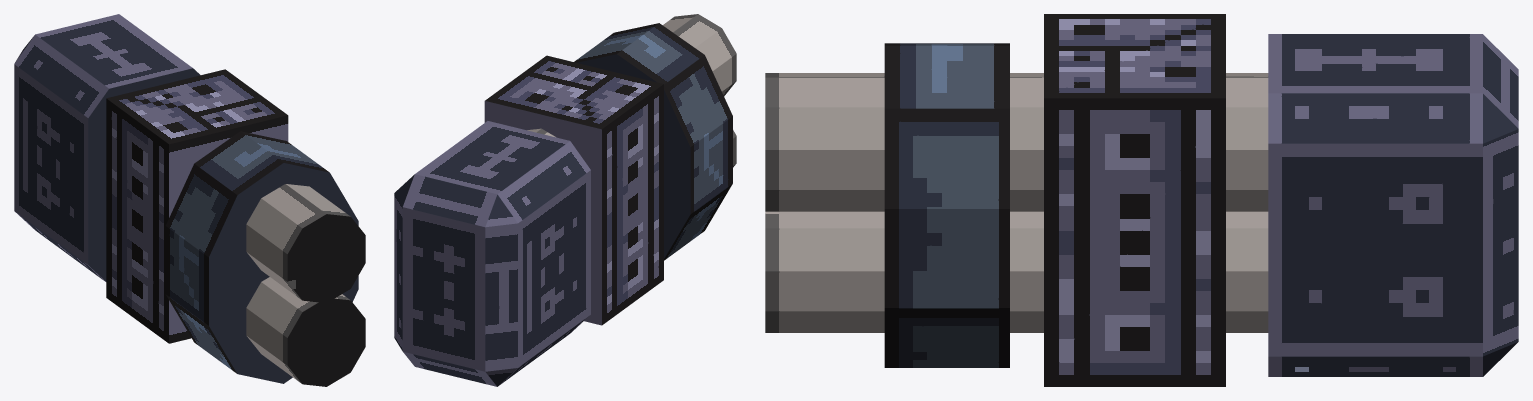
The model's file is ArmRocket.gltf.
3 renders of one model, left to right at view 1: azimuth 30°, elevation 25°; view 2: azimuth 150°, elevation 25°; view 3: azimuth 270°, elevation 25°, orthographic. The views are drawn at different scales.
Visible parts, largest first — view 1: ArmRocketLauncher, cuboid, cylinder, Tube (×2); view 2: ArmRocketLauncher, cuboid, cylinder, Tube; view 3: ArmRocketLauncher, cuboid, Tube (×2), cylinder.
Boxes of the visible parts, box(x1,y1,x2,y2) form: ArmRocketLauncher: box(14, 14, 200, 281); cuboid: box(106, 69, 288, 343); cylinder: box(165, 131, 358, 383); Tube (×2): box(246, 184, 365, 386); ArmRocketLauncher: box(394, 121, 590, 386); cuboid: box(484, 55, 663, 325); cylinder: box(574, 23, 732, 260); Tube: box(527, 14, 736, 137); ArmRocketLauncher: box(1268, 34, 1518, 376); cuboid: box(1044, 14, 1225, 386); Tube (×2): box(765, 73, 1268, 332); cylinder: box(884, 43, 1009, 367).
Size of the model in its own units: 0.275 by 0.388 by 0.8277.
1 material, 1 textured.
